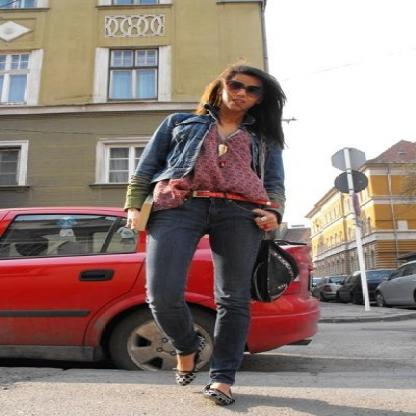bag: (248, 241, 298, 302)
jacket: (124, 100, 285, 212)
pants: (134, 193, 303, 366)
shirt: (145, 125, 261, 210)
shoe: (180, 358, 210, 378)
